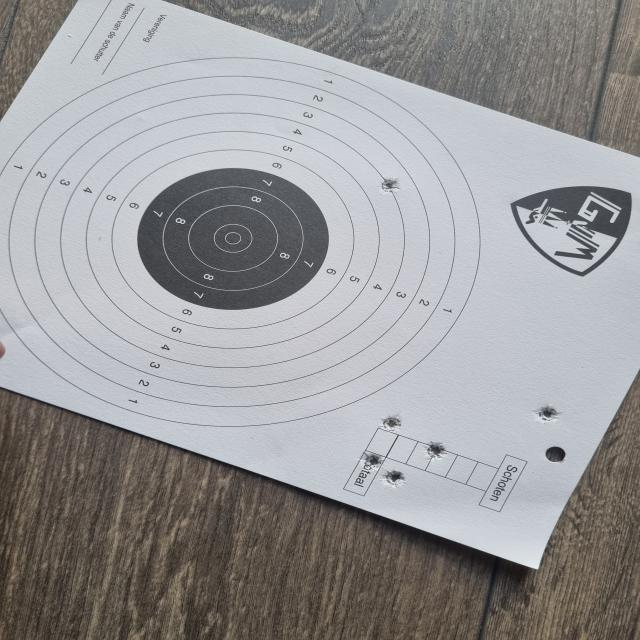0: (426, 440, 450, 461), (381, 414, 405, 434), (361, 451, 384, 470), (385, 469, 407, 488), (537, 405, 560, 423)
4: (380, 178, 404, 193)
Target: (0, 54, 480, 431)
black_contour: (142, 167, 329, 308)
